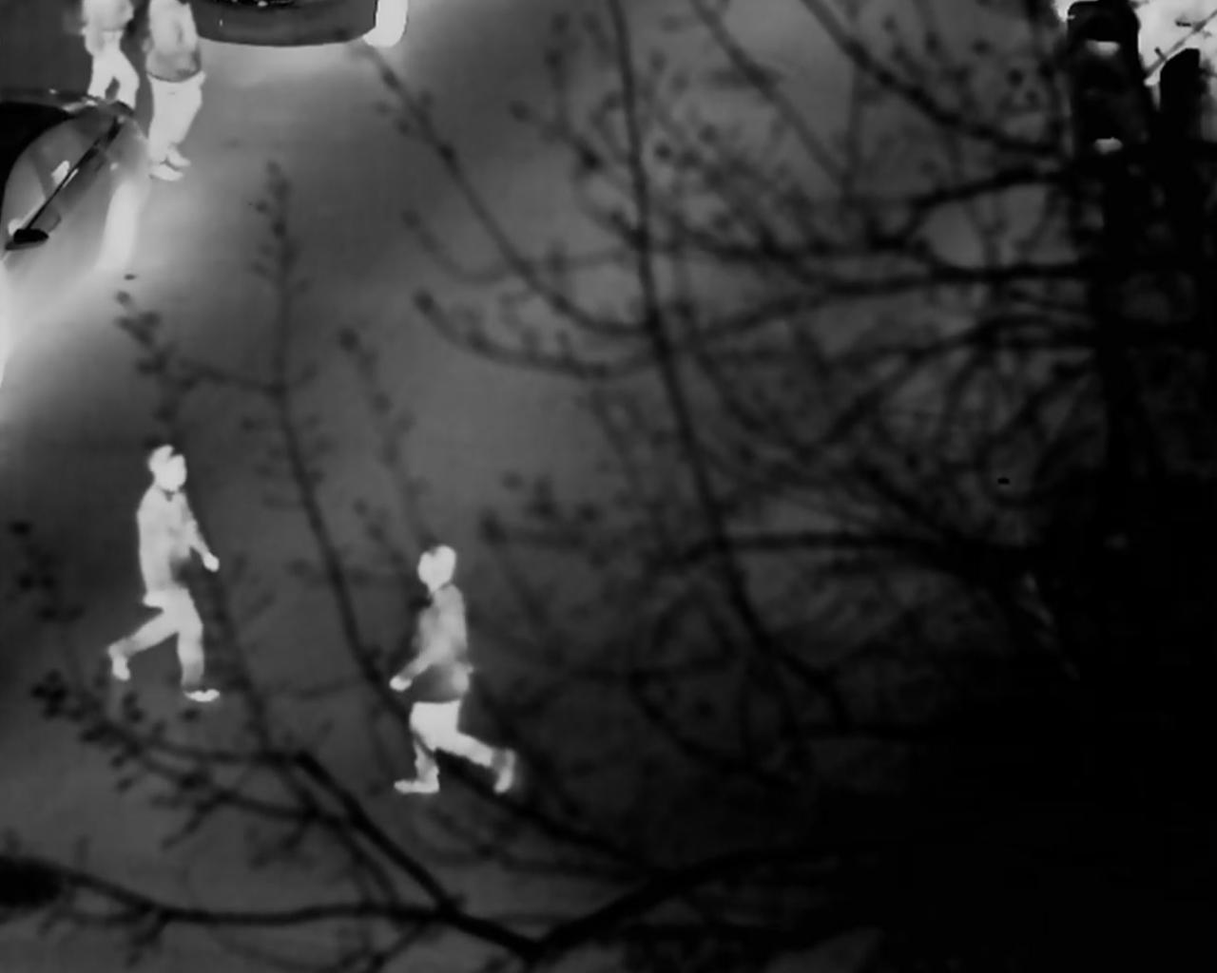person: (120, 436, 239, 696), (396, 542, 520, 782)
